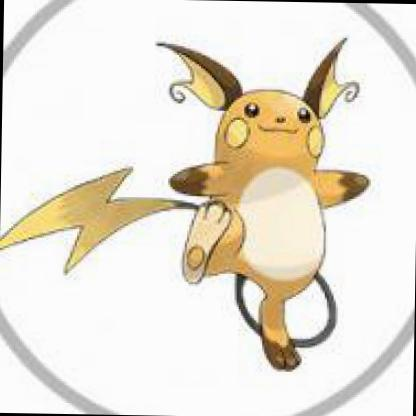Raichu: (0, 7, 415, 415)
